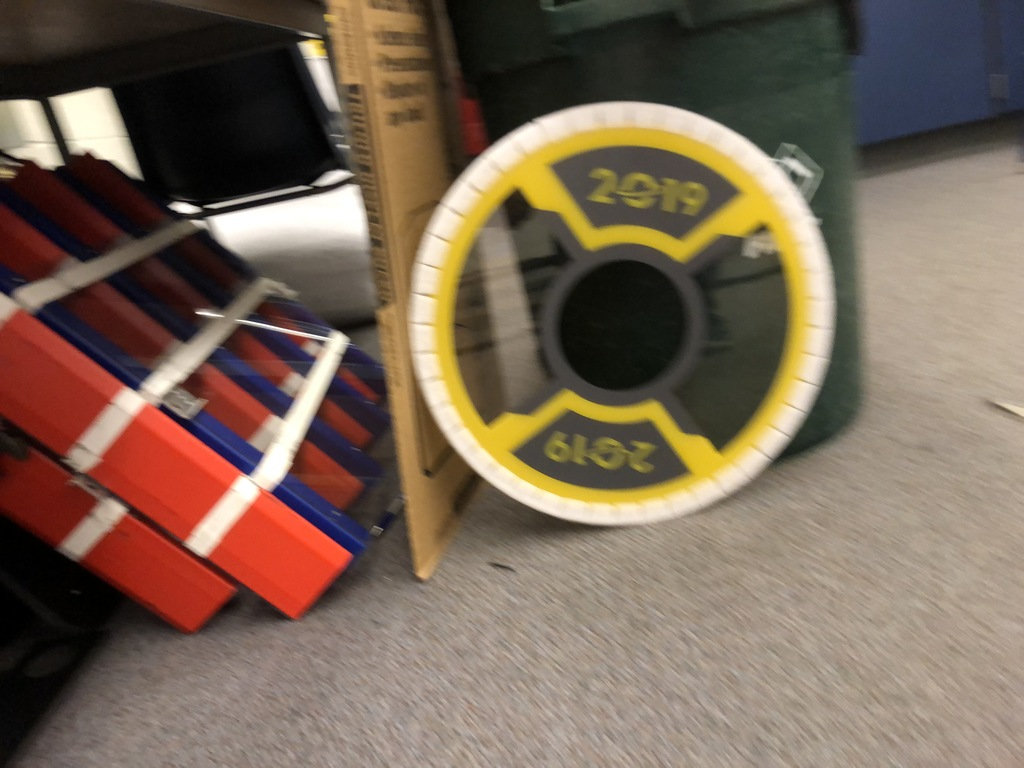hatch_panel: (397, 70, 848, 544)
